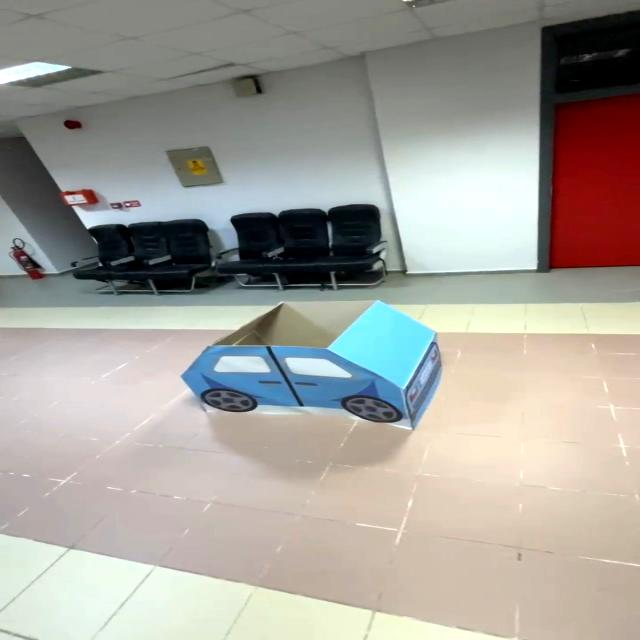blue_car: (160, 294, 452, 439)
